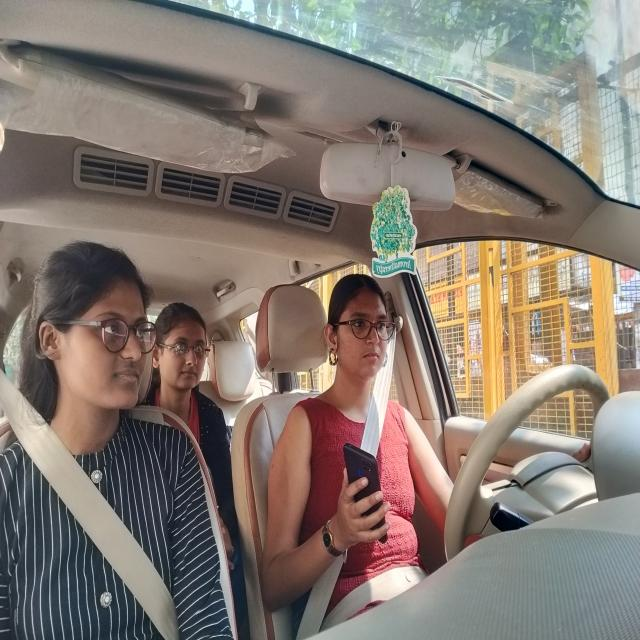mobile: (342, 442, 389, 548)
person: (46, 244, 153, 417), (331, 281, 389, 385), (158, 305, 208, 394)
